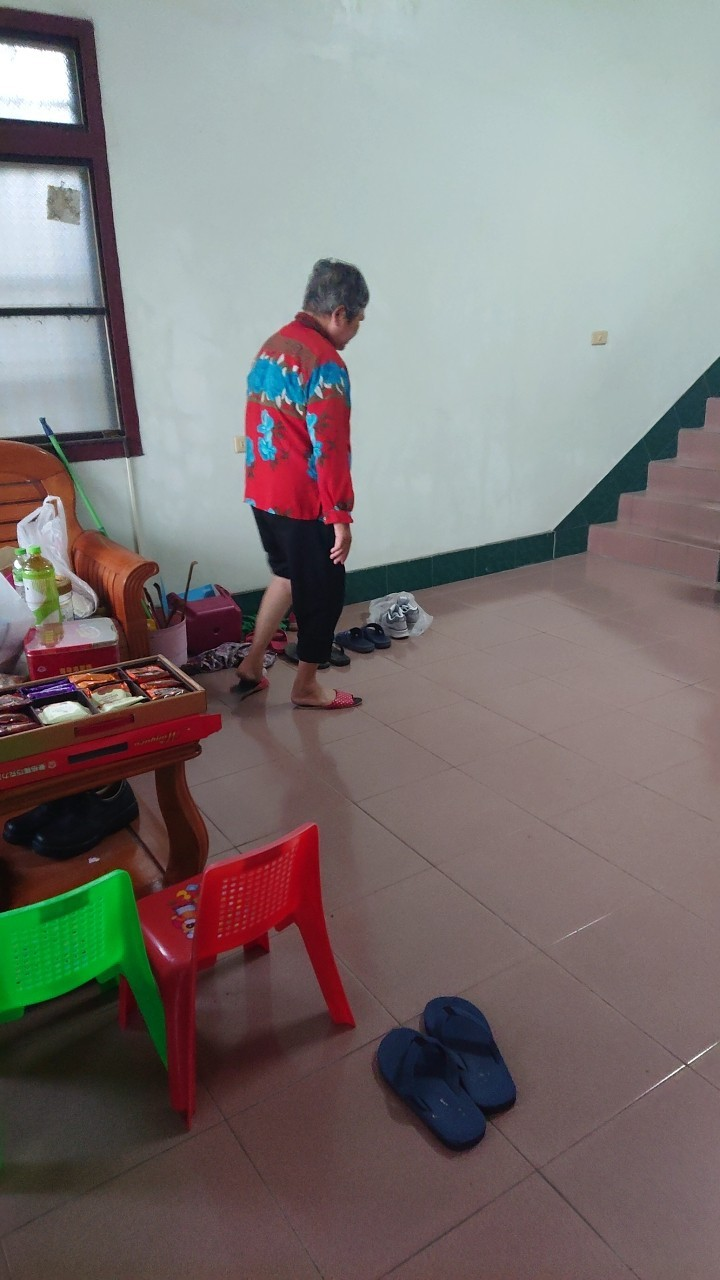people: (224, 241, 379, 729)
